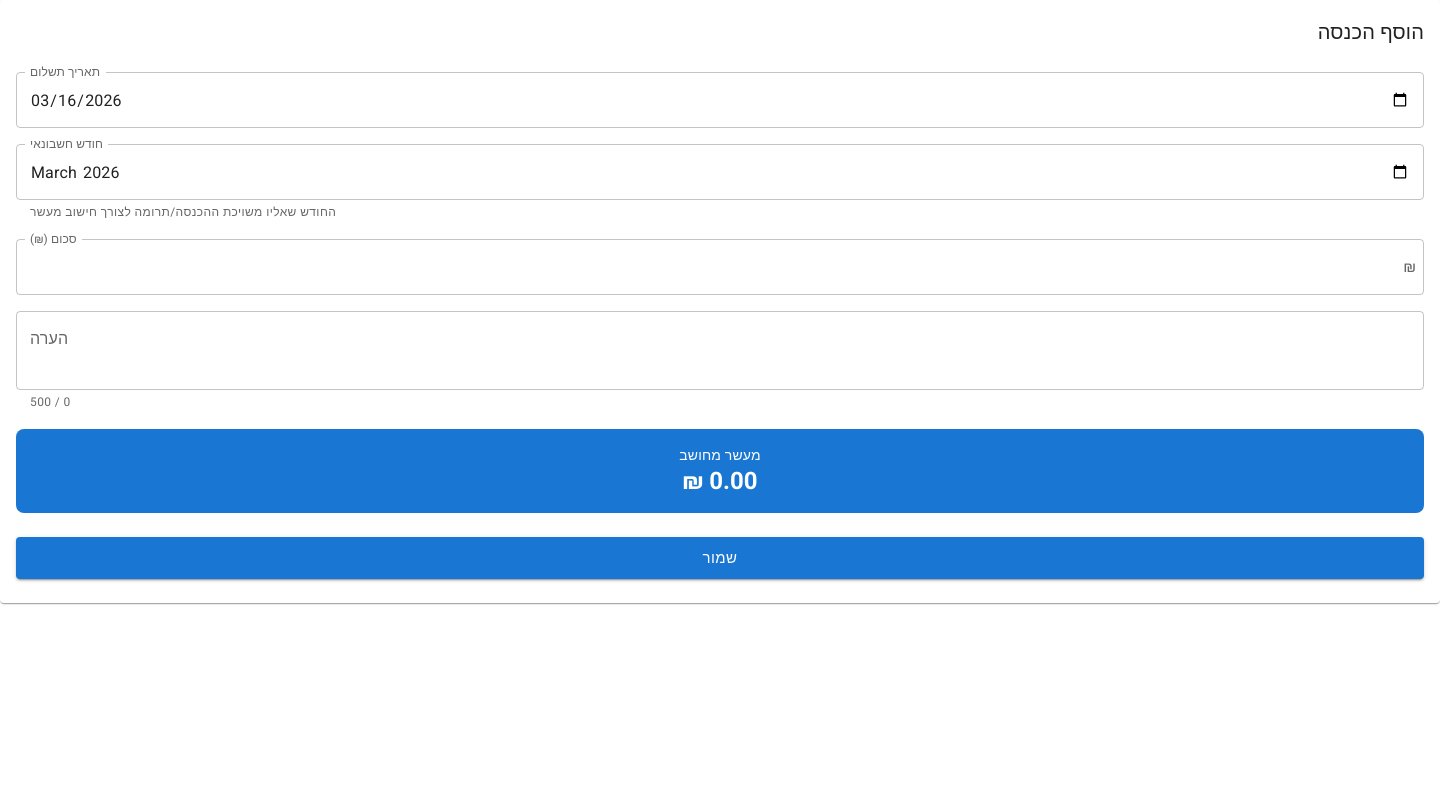
Test: AddIncome Component › calculated ma'aser display › should calculate 10% ma'aser when amount entered
Type "1000" into the number field labelled "סכום (₪)" at (717, 267), box top-left (30, 239), bottom-right (1404, 295)
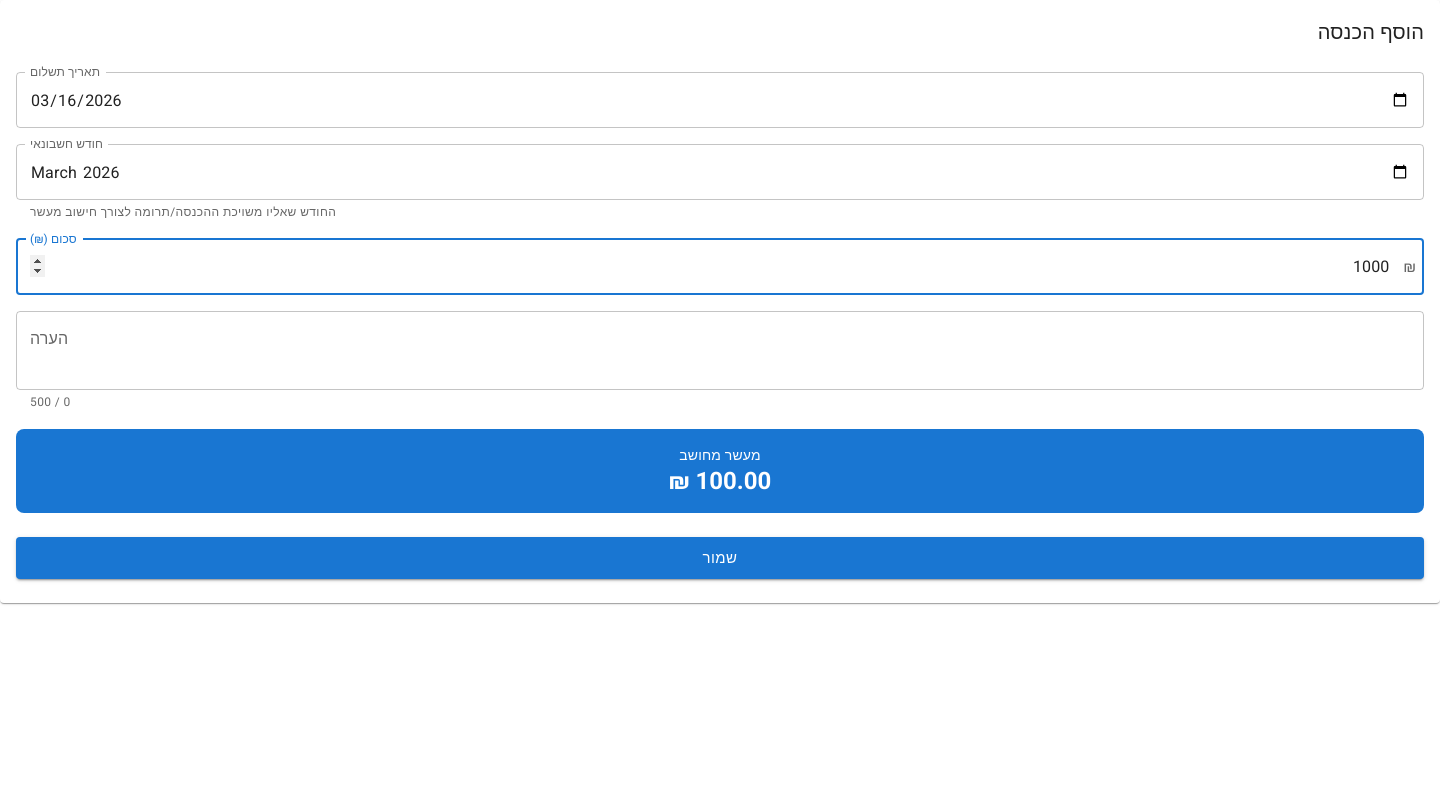
Now the heading "100.00 ₪" is shown, box top-left (669, 467), bottom-right (771, 495)
